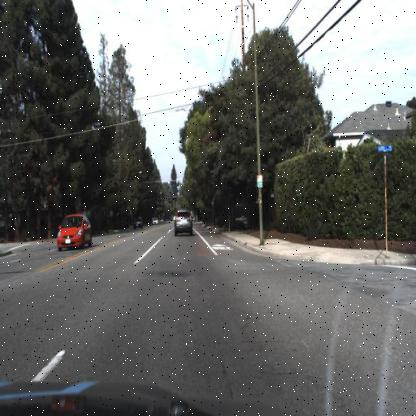car: (56, 213, 89, 253), (172, 209, 194, 240), (132, 214, 143, 230)
